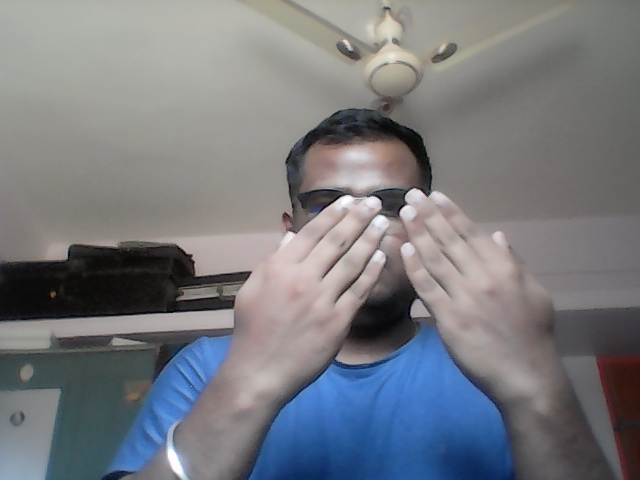Thank You: (229, 188, 561, 384)
